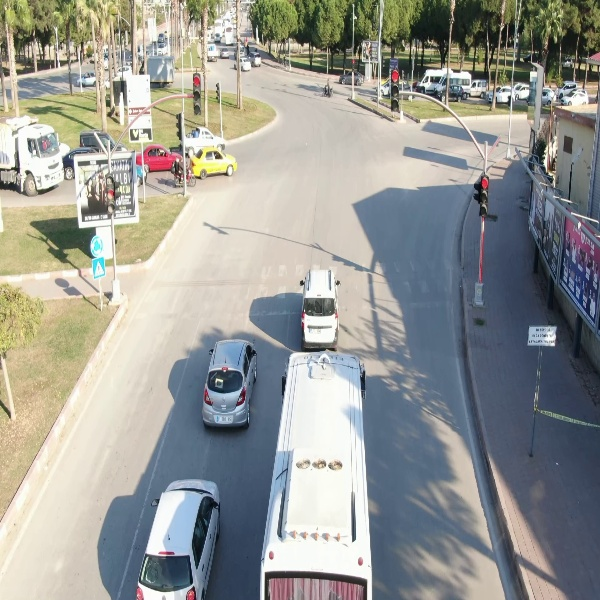car: (200, 337, 260, 431), (300, 265, 341, 351), (189, 146, 239, 182), (486, 84, 517, 105), (558, 89, 591, 106), (338, 68, 367, 87), (438, 84, 466, 101)
